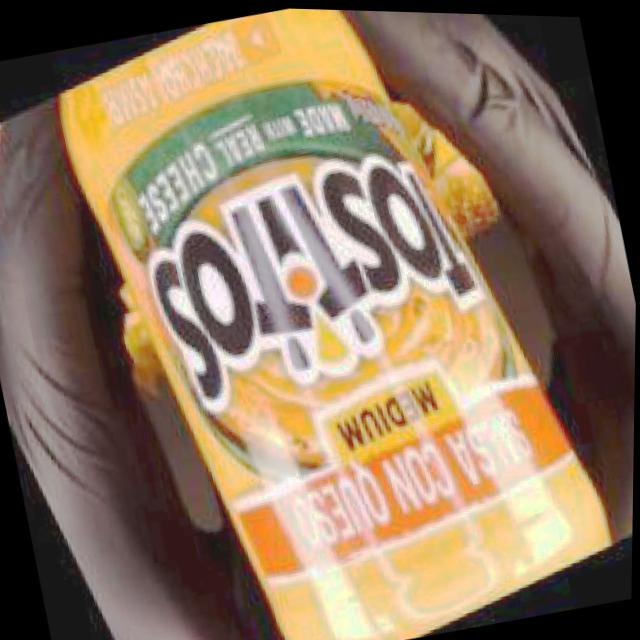tostitos cheese dip sauce: (37, 1, 636, 640)
